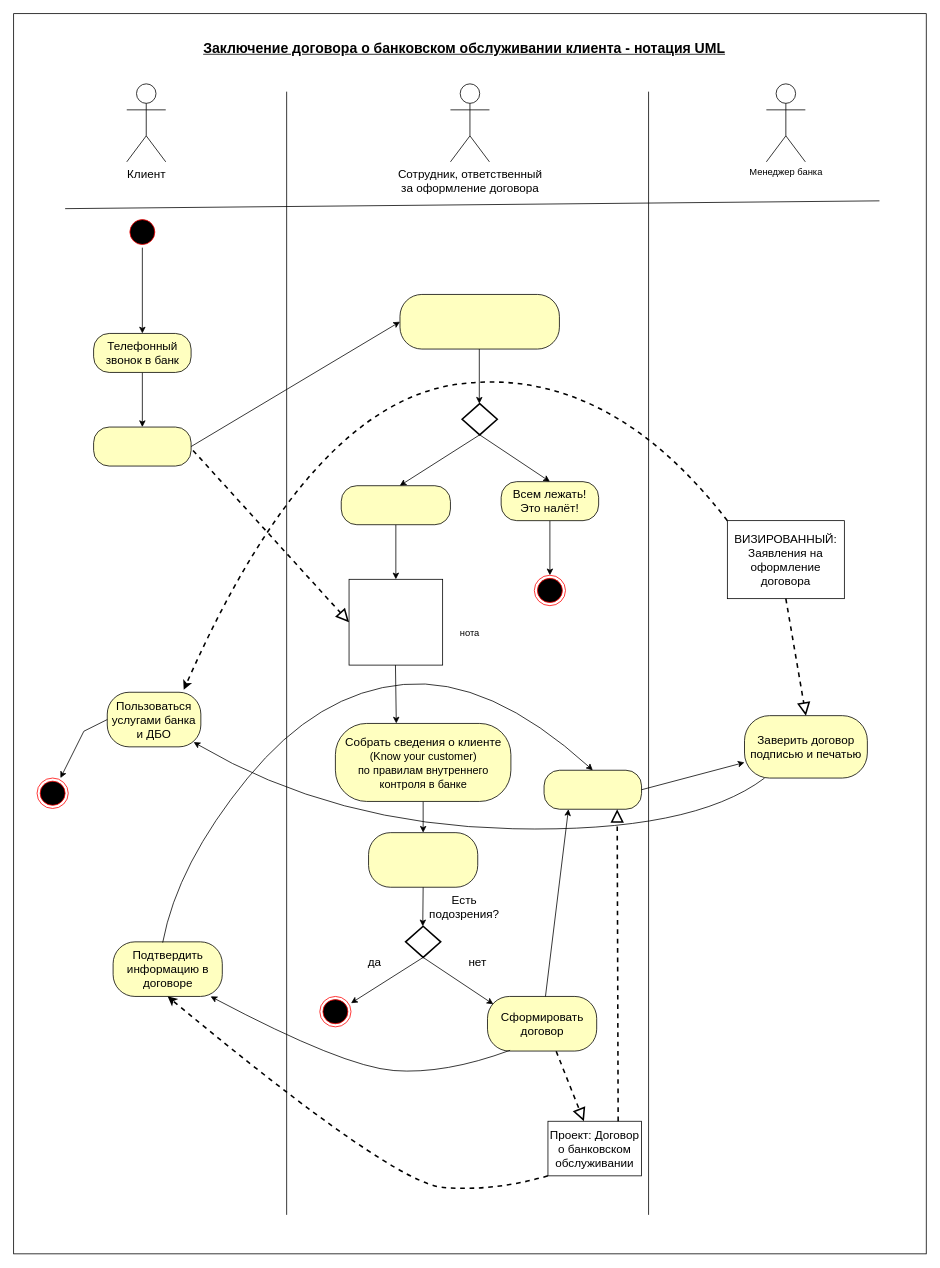
Image size: 940x1268. Some labels were removed from this diagram. Each missing label, with the centre of its shape:
"Визит клиента в банк" belongs at pixel 142 446.
"НОВОЕ: Заполнение заявления на оформление договора" belongs at pixel 395 622.
"Общение с клиентом, оценка его адекватности, соответствующие вопросы" belongs at pixel 479 321.
"Отправить на утверждение" belongs at pixel 592 789.
"Проверить собранную информацию" belongs at pixel 423 859.
"Работаем дальше, всё хорошо" belongs at pixel 395 505.
